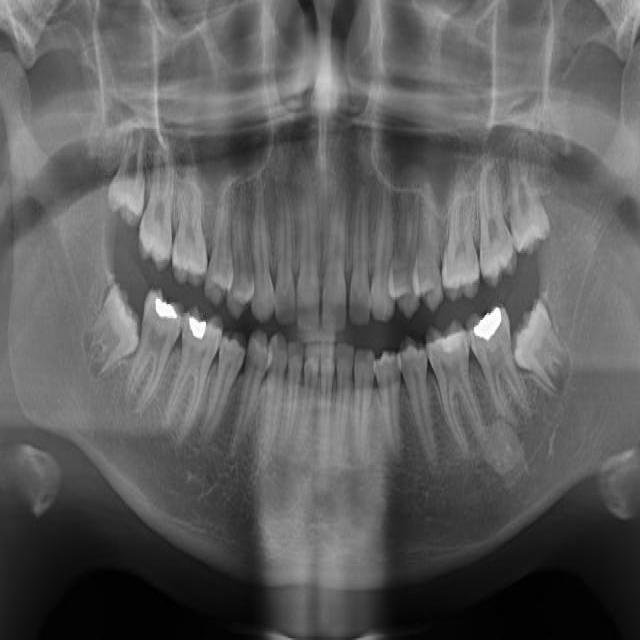dolgu: (472, 302, 511, 350), (149, 283, 181, 340), (182, 304, 216, 350)
